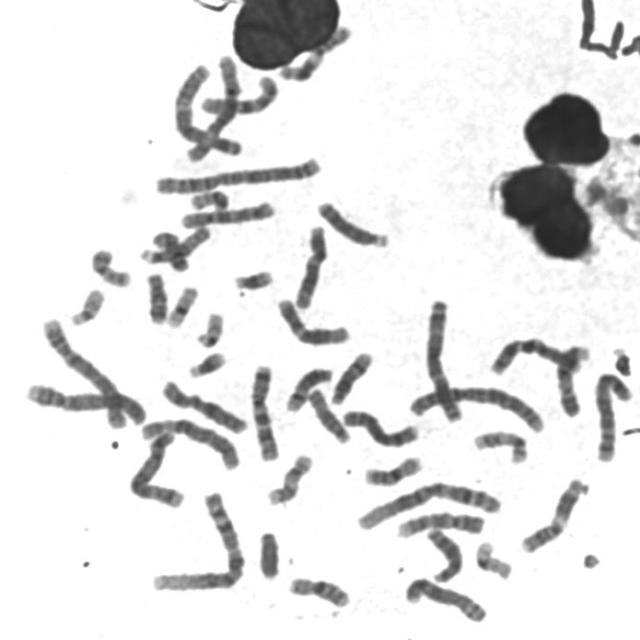A1: (144, 485, 246, 594), (350, 475, 502, 532)
A2: (403, 378, 549, 434), (149, 150, 324, 196)
A3: (168, 56, 245, 159), (419, 292, 466, 423)
B4: (35, 311, 133, 432), (20, 375, 148, 428)
B5: (123, 427, 188, 509), (588, 367, 636, 464)
C10: (193, 69, 281, 117), (174, 195, 277, 230)
C11: (515, 472, 591, 556), (272, 20, 354, 84)
C12: (272, 292, 352, 348), (288, 220, 330, 310)
C6: (182, 54, 243, 166), (134, 412, 242, 472)
C7: (484, 332, 590, 378), (244, 358, 283, 463)
C8: (399, 572, 490, 625), (337, 404, 422, 450)
C9: (391, 506, 488, 540), (552, 339, 593, 419)
D13: (312, 196, 391, 250), (422, 524, 464, 584)
D14: (325, 346, 376, 407), (281, 361, 335, 414)
D15: (134, 220, 213, 266), (303, 384, 353, 446)
E16: (282, 571, 352, 610), (358, 451, 426, 488)
E17: (261, 449, 315, 507), (468, 425, 530, 466)
E18: (147, 226, 190, 274), (140, 266, 169, 326)
F19: (161, 280, 201, 330), (470, 537, 514, 581)
F20: (84, 242, 134, 288), (184, 185, 232, 213)
G21: (182, 345, 228, 380), (228, 264, 276, 293)
G22: (64, 282, 107, 328), (190, 306, 227, 349)
X: (156, 374, 250, 436)
Y: (252, 526, 283, 582)
